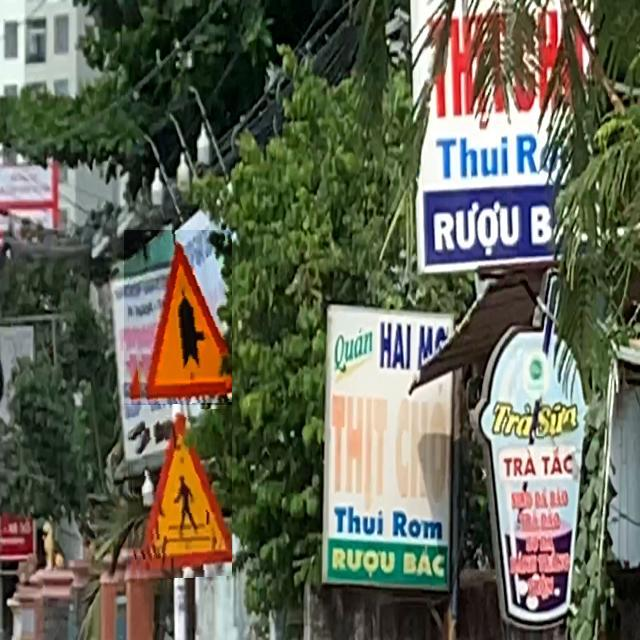W-207b: (125, 230, 233, 405)
W-224: (129, 409, 233, 580)
